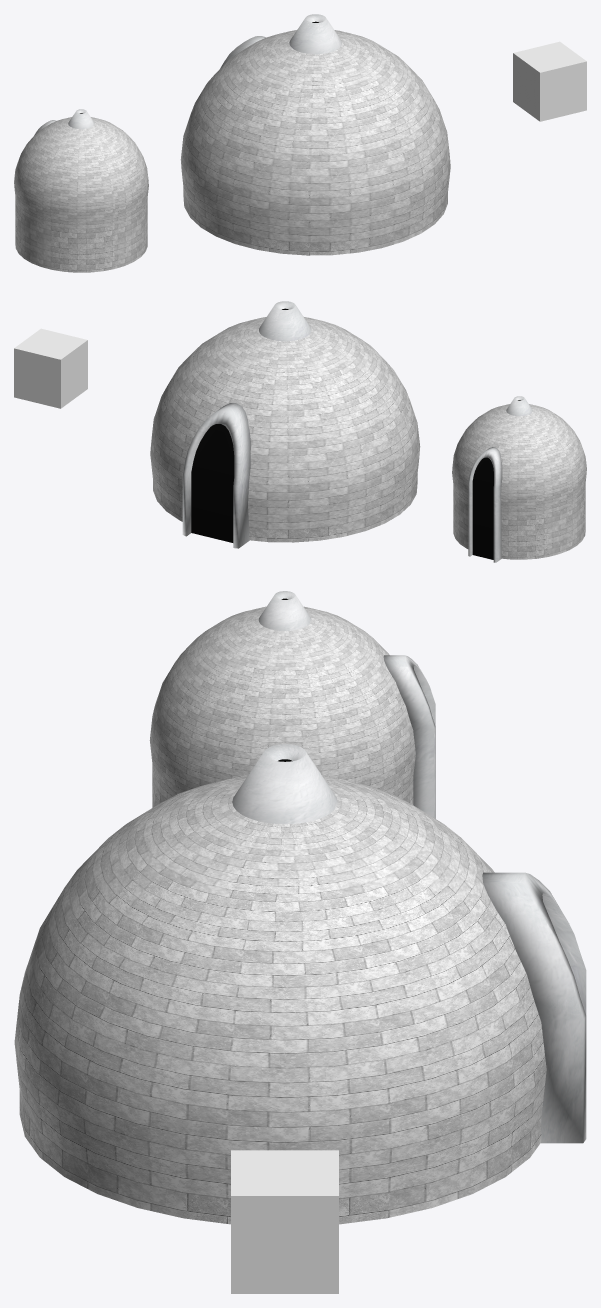
File: igloos.fbx
3 views of the same model, one above another, from view 1: azimuth 30°, elevation 25°; view 2: azimuth 150°, elevation 25°; view 3: azimuth 270°, elevation 25° (orthographic). The views are drawn at different scales.
Visible parts, largest first — view 1: igloo, igloo.001, Cube, iglooChimney, iglooChimney.001; view 2: igloo, igloo.001, iglooDoor, Cube, iglooDoor.001, iglooChimney, iglooChimney.001; view 3: igloo, igloo.001, Cube, iglooDoor, iglooChimney, iglooDoor.001, iglooChimney.001.
Boxes of the visible parts, bbox=[...] form: igloo: bbox=[180, 30, 450, 255]; igloo.001: bbox=[14, 117, 148, 272]; Cube: bbox=[513, 41, 586, 121]; iglooChimney: bbox=[289, 14, 341, 54]; iglooChimney.001: bbox=[68, 109, 94, 129]; igloo: bbox=[150, 317, 420, 542]; igloo.001: bbox=[452, 404, 586, 559]; iglooDoor: bbox=[182, 403, 250, 548]; Cube: bbox=[14, 328, 87, 408]; iglooDoor.001: bbox=[468, 447, 502, 562]; iglooChimney: bbox=[259, 301, 311, 341]; iglooChimney.001: bbox=[506, 396, 532, 416]; igloo: bbox=[14, 775, 546, 1224]; igloo.001: bbox=[149, 606, 415, 807]; Cube: bbox=[231, 1150, 338, 1293]; iglooDoor: bbox=[482, 872, 586, 1143]; iglooChimney: bbox=[232, 744, 337, 824]; iglooDoor.001: bbox=[383, 655, 435, 818]; iglooChimney.001: bbox=[258, 591, 311, 630].
Bounding box in the file's own units: 1057 × 740 × 2350.
Materials: 4 (3 with a texture image).
